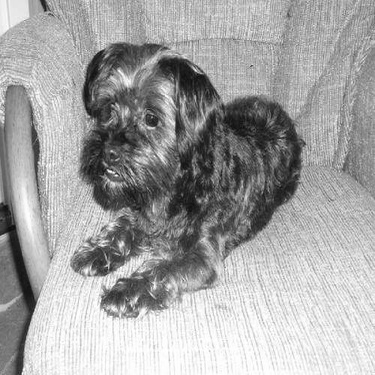dog: (67, 34, 309, 323)
